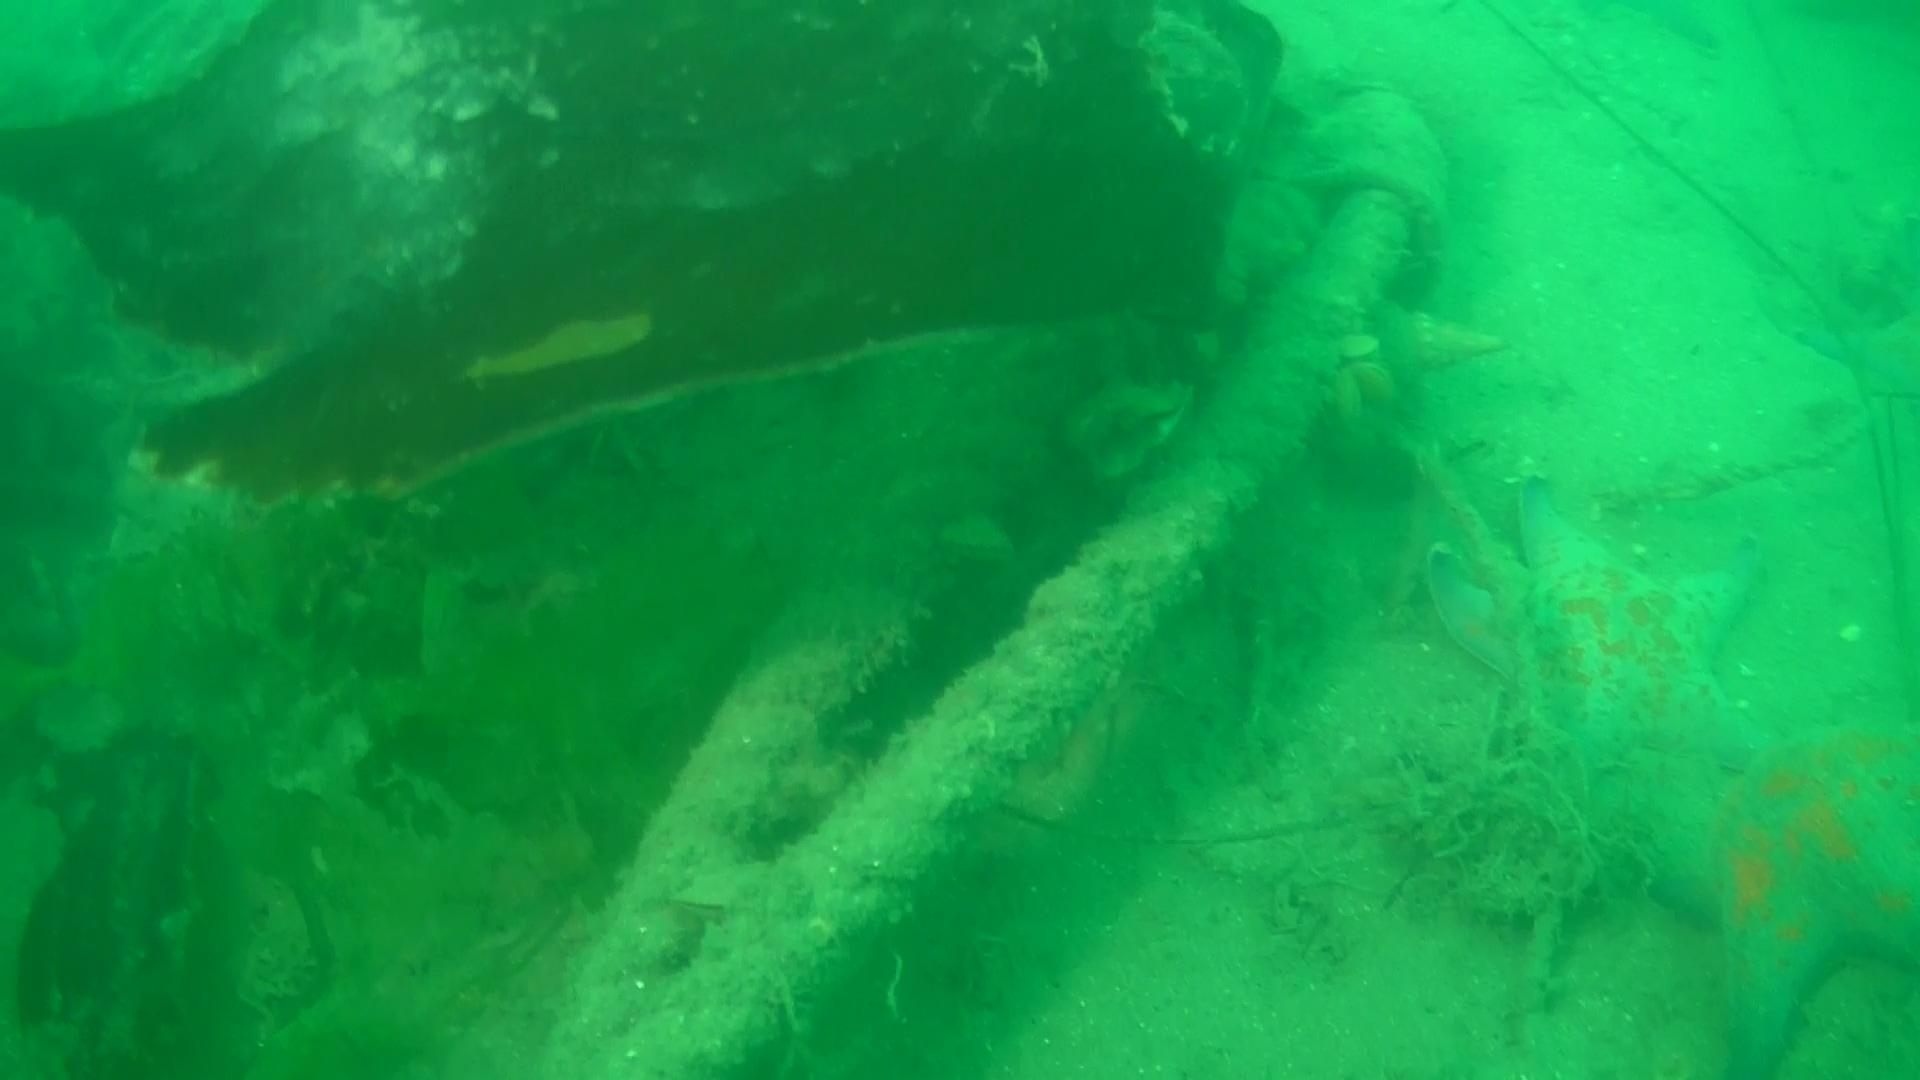rope: (545, 185, 1402, 1080)
